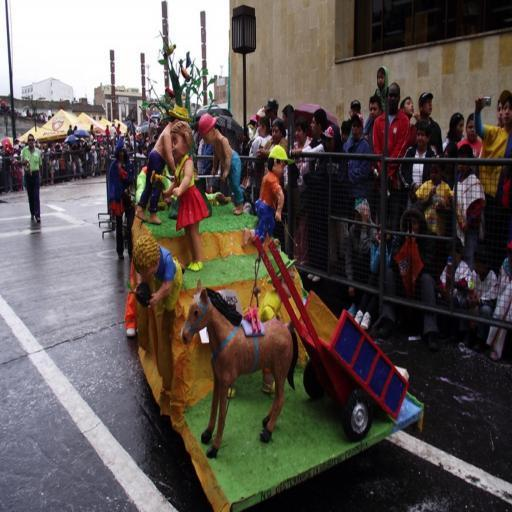horse: (179, 279, 300, 459)
